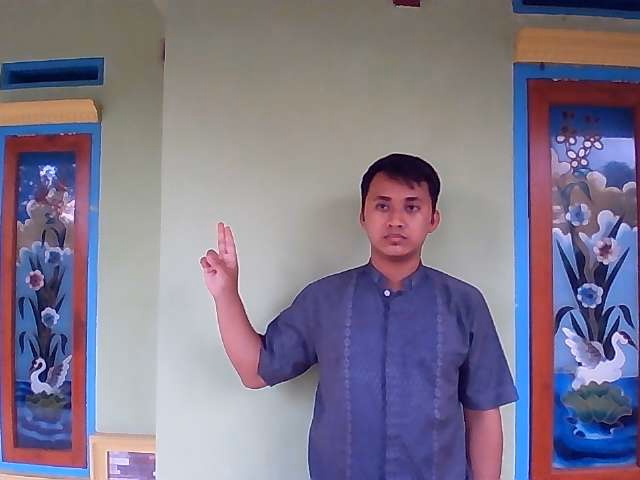U: (198, 220, 239, 295)
